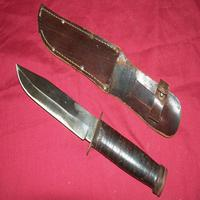knife: (12, 58, 168, 191)
